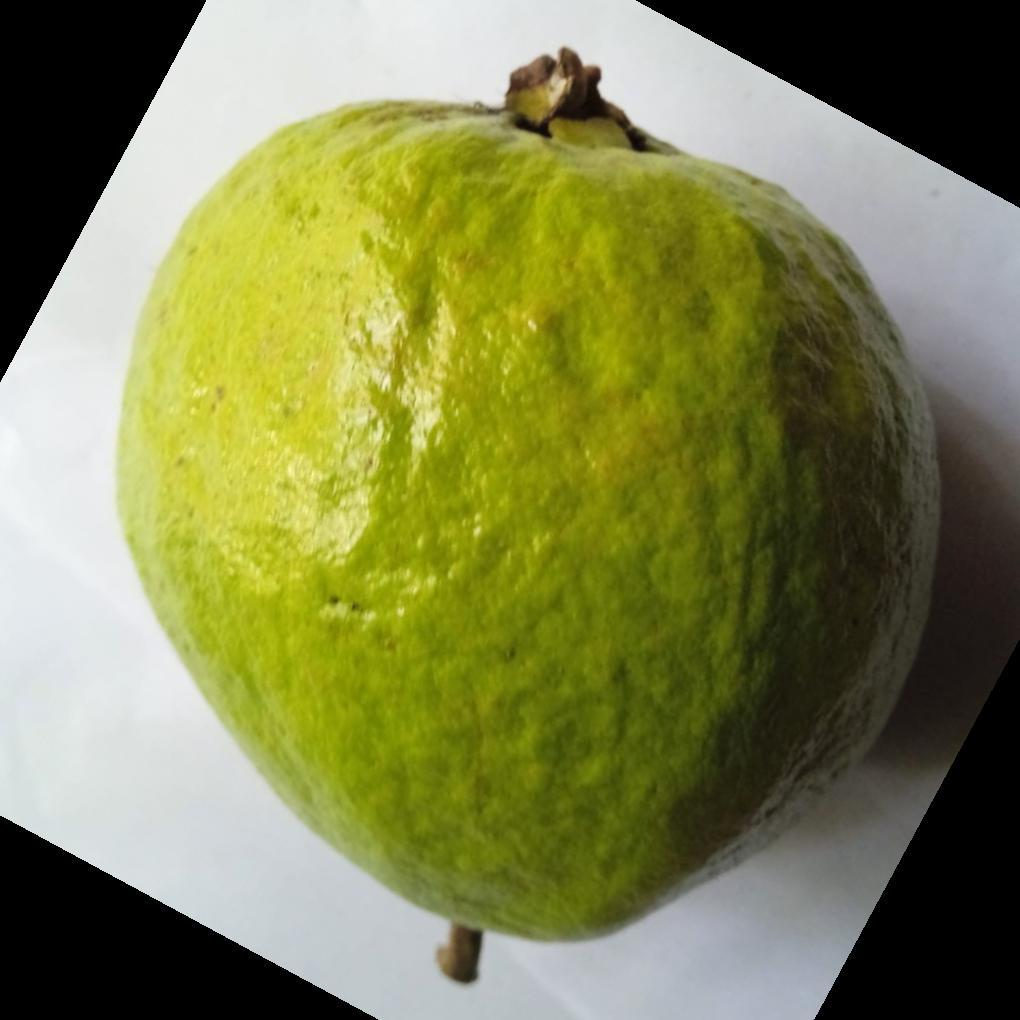FreshGuava: (108, 49, 941, 976)
